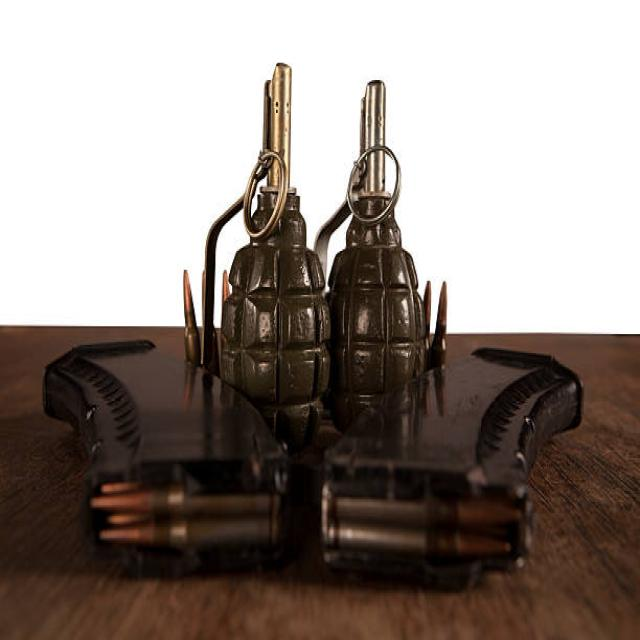grenade: (197, 60, 331, 452), (311, 71, 429, 403)
